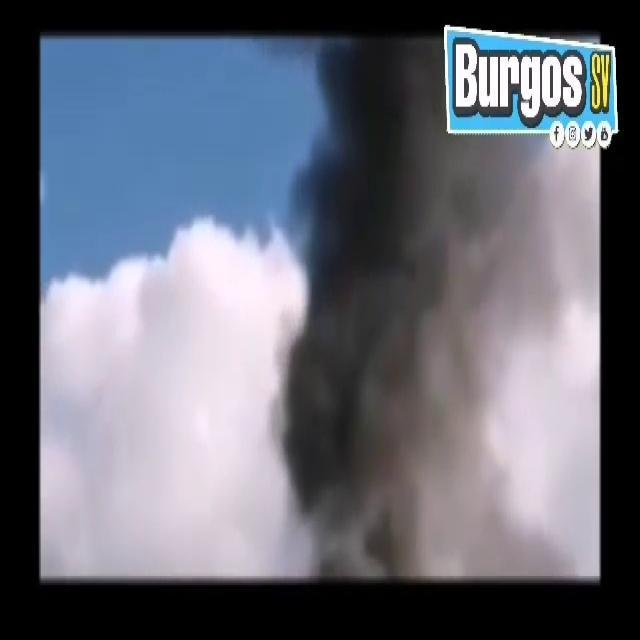Smoke: (282, 37, 452, 571)
